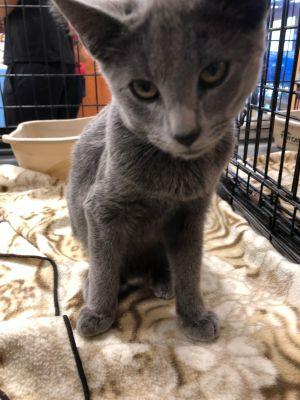rblue: (62, 1, 265, 191)
